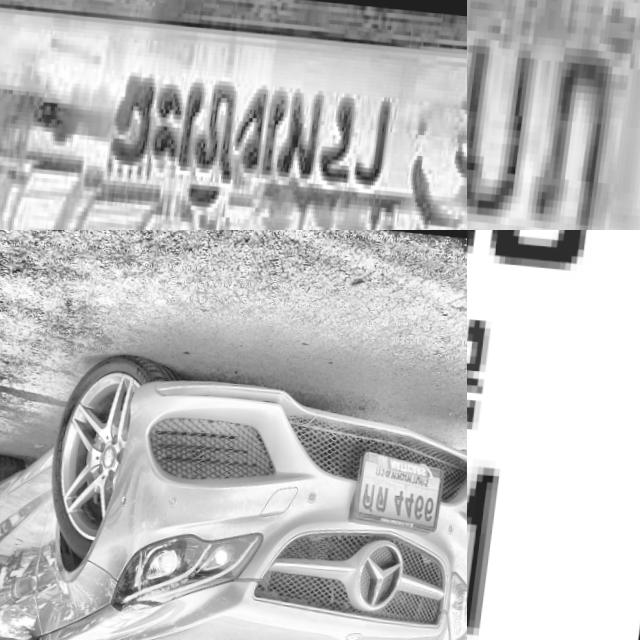license-plate: (0, 0, 467, 230), (467, 230, 640, 640), (467, 0, 640, 230), (350, 440, 452, 531)
